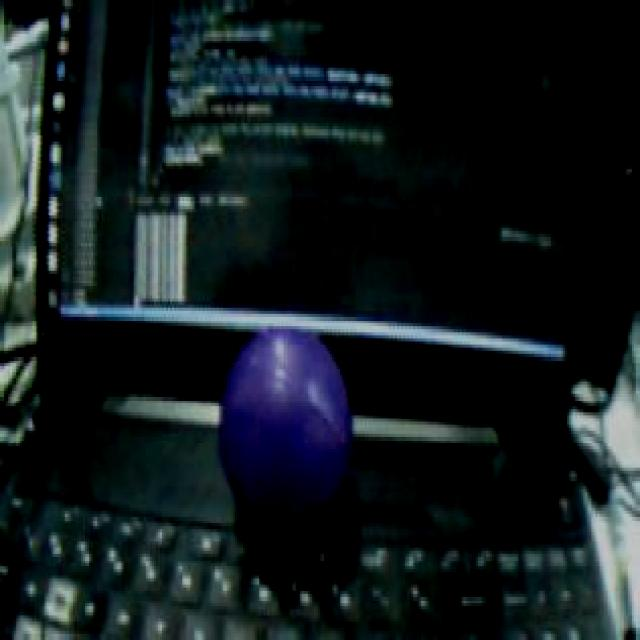BallPurple: (220, 327, 353, 524)
